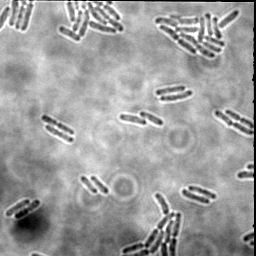Dividing: (213, 109, 253, 137), (40, 114, 75, 136), (43, 124, 75, 144), (224, 109, 254, 129), (188, 184, 217, 201), (158, 89, 193, 103)
Microcolony: (154, 9, 240, 60), (119, 192, 183, 256), (58, 1, 124, 44), (1, 1, 34, 33)
Rod: (180, 188, 210, 205), (4, 198, 30, 217), (139, 110, 165, 127), (89, 175, 109, 196), (155, 84, 185, 97), (79, 175, 98, 195), (118, 113, 147, 126)
